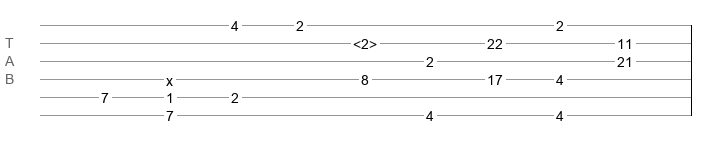1: (166, 90, 174, 100)
11: (617, 36, 633, 46)
17: (487, 72, 503, 82)
2: (231, 90, 239, 100), (296, 18, 304, 28), (426, 54, 434, 64), (556, 18, 564, 28)
21: (617, 54, 633, 64)
22: (487, 36, 503, 46)
4: (231, 18, 239, 28), (426, 108, 434, 118), (556, 108, 564, 118), (556, 72, 564, 82)
7: (101, 90, 109, 100), (166, 108, 174, 118)
8: (361, 72, 369, 82)
harmonic: (353, 36, 377, 46)
x: (166, 73, 173, 81)
